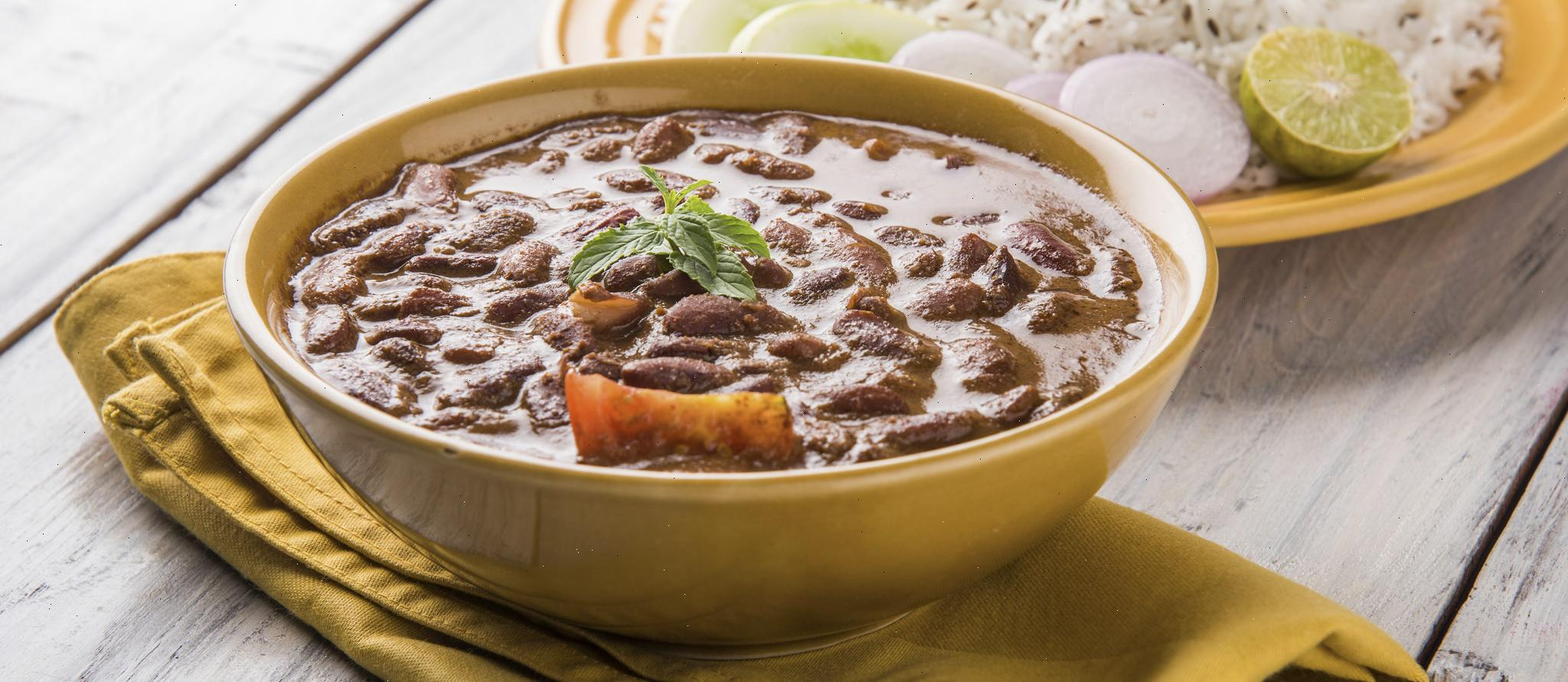rajma: (252, 112, 1148, 475)
